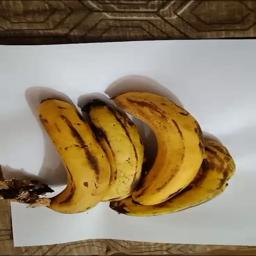Banana Semifresh: (19, 89, 237, 222)
